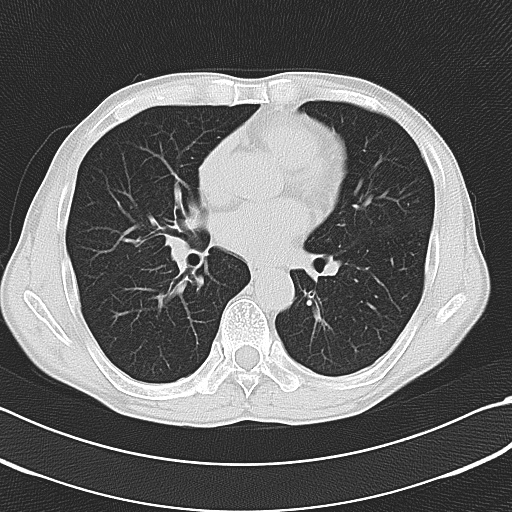non-cancer: (117, 183, 206, 291), (302, 290, 347, 332)
